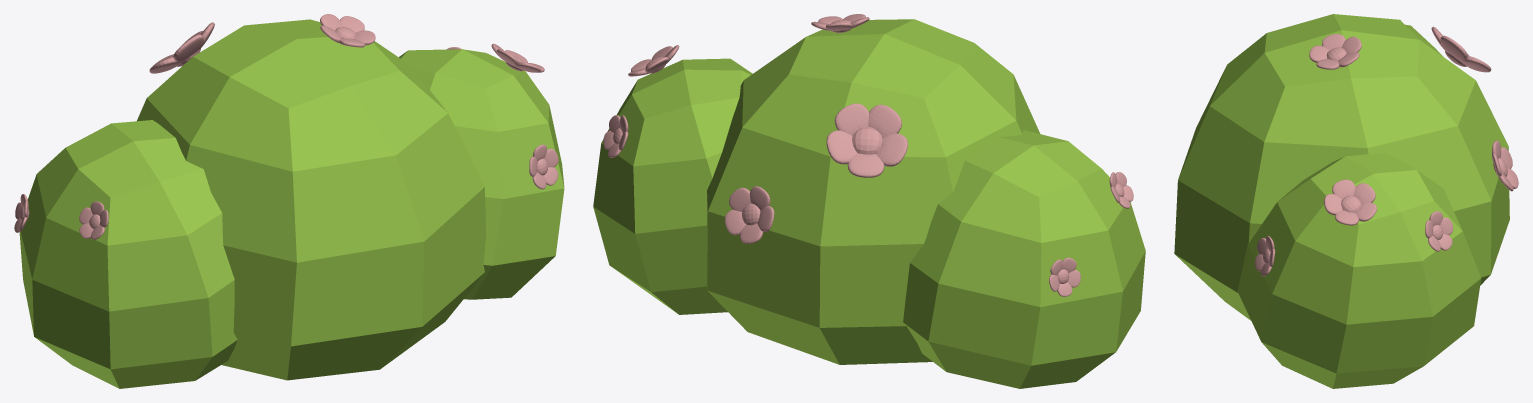
The model's file is bush_big_flower.fbx.
3 renders of one model, left to right at view 1: azimuth 30°, elevation 25°; view 2: azimuth 150°, elevation 25°; view 3: azimuth 270°, elevation 25°, orthographic. The views are drawn at different scales.
Parts seen in each view (by area): view 1: Cube.010, Cube.011, Cube.012, Cube.017, Cube.018, Cube.014, Cube.026, Cube.024; view 2: Cube.010, Cube.011, Cube.012, Cube.018, Cube.020, Cube.021, Cube.019, Cube.024, Cube.017, Cube.026; view 3: Cube.010, Cube.012, Cube.024, Cube.017, Cube.018, Cube.019, Cube.020, Cube.014.
Boxes of the visible parts, x1,y1,x2,y2 form: Cube.010: (137,19,486,380); Cube.011: (19,120,237,388); Cube.012: (399,49,564,299); Cube.017: (320,14,375,47); Cube.018: (149,22,214,73); Cube.014: (529,144,558,189); Cube.026: (79,201,108,239); Cube.024: (491,43,544,72); Cube.010: (706,19,1040,364); Cube.011: (903,130,1145,388); Cube.012: (593,58,752,314); Cube.018: (826,103,907,177); Cube.020: (724,186,774,243); Cube.021: (1049,257,1080,296); Cube.019: (603,115,628,157); Cube.024: (628,45,679,76); Cube.017: (811,14,869,32); Cube.026: (1109,172,1133,208); Cube.010: (1174,14,1509,320); Cube.012: (1237,153,1481,388); Cube.024: (1324,179,1376,225); Cube.017: (1309,34,1361,69); Cube.018: (1431,26,1491,72); Cube.019: (1425,211,1453,251); Cube.020: (1492,140,1518,191); Cube.014: (1255,235,1275,276).
Size of the model in its own units: 2.9 by 1.82 by 1.68.
